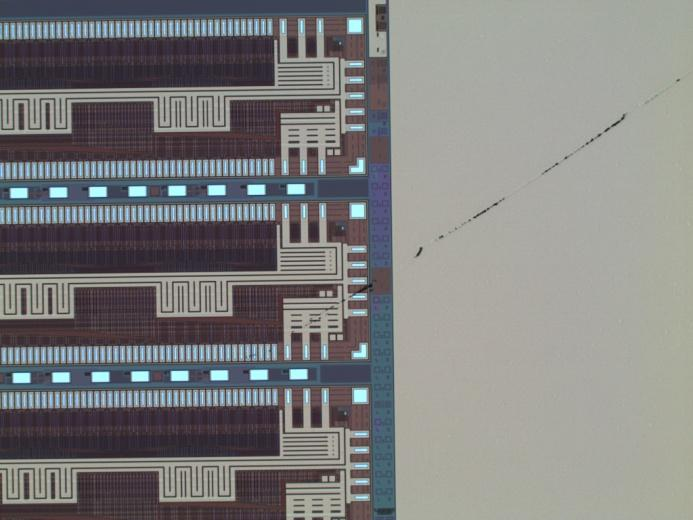SCRATCH: (240, 63, 693, 370)
